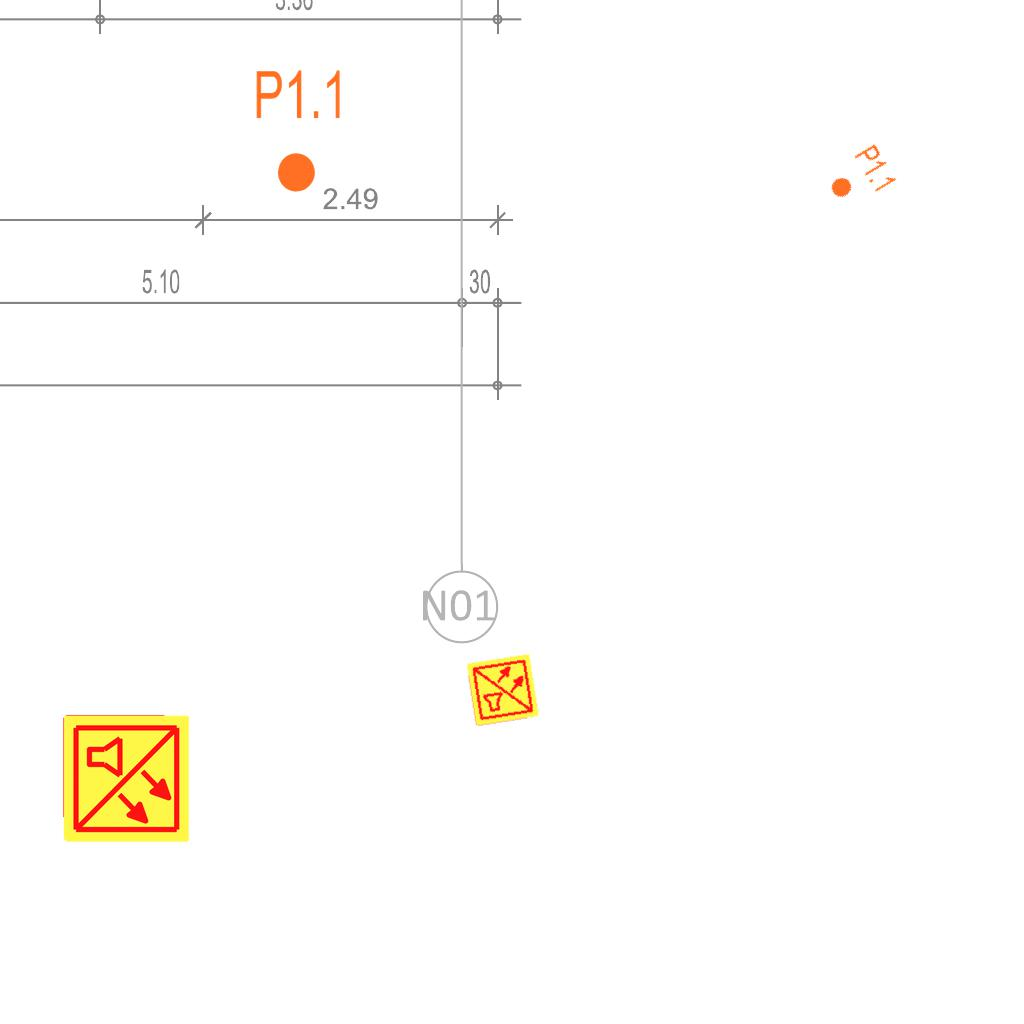Downlight_LED_Einbauleuchten_Flur: (253, 67, 346, 195), (820, 141, 900, 215)
OKW_Multisensormelder_(Kombination_optischer_Rauch-Kahlenmonoxid_Waerme-Melder): (60, 713, 192, 845), (465, 652, 541, 728)
